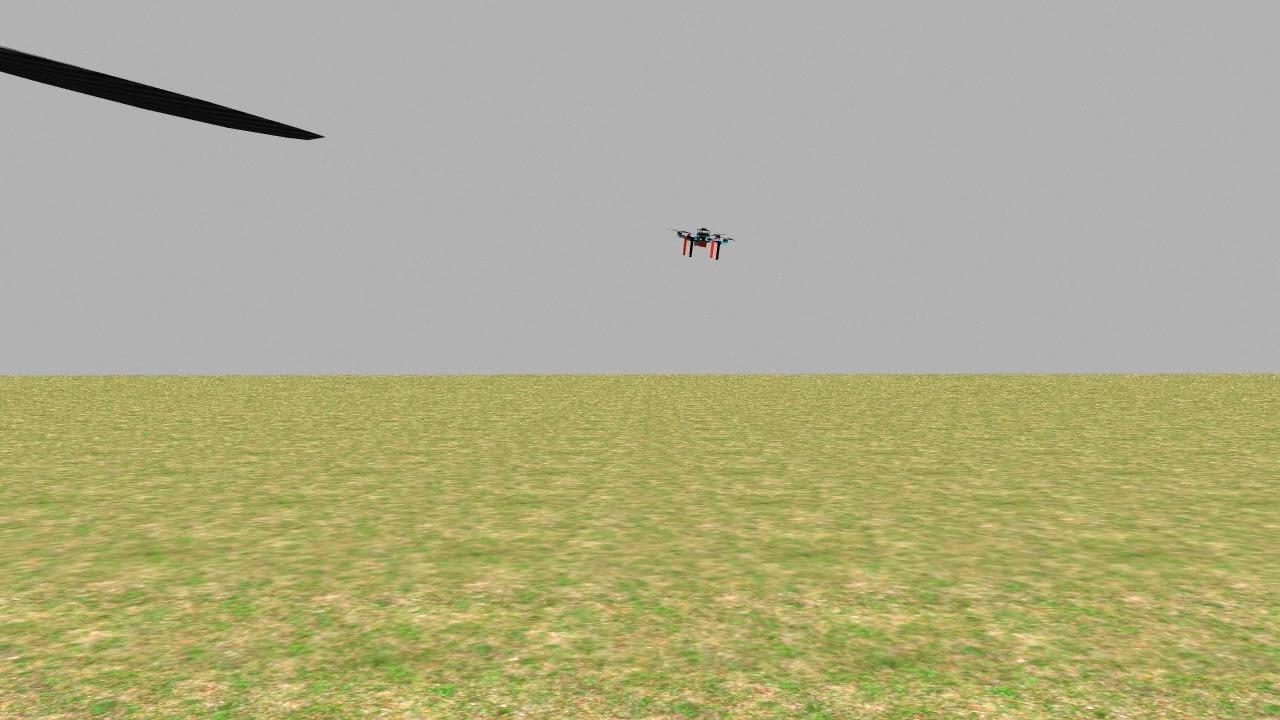UAV: (663, 218, 747, 269)
